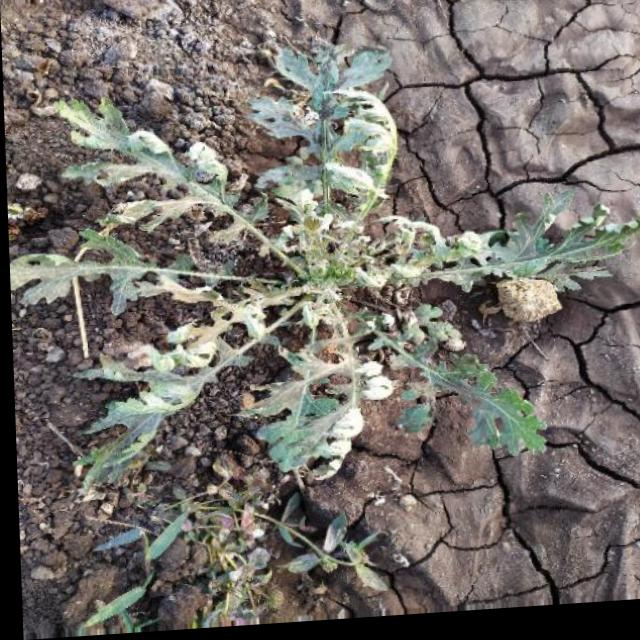weed: (13, 61, 640, 514)
